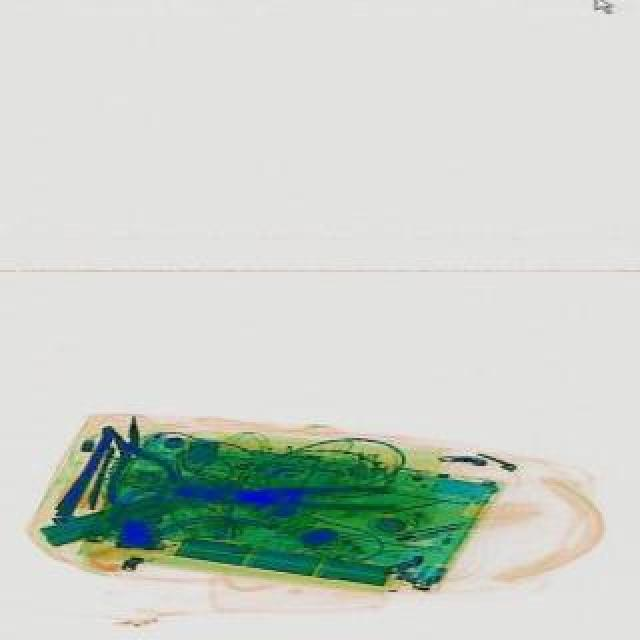wrench: (82, 408, 180, 504), (238, 484, 394, 508)
